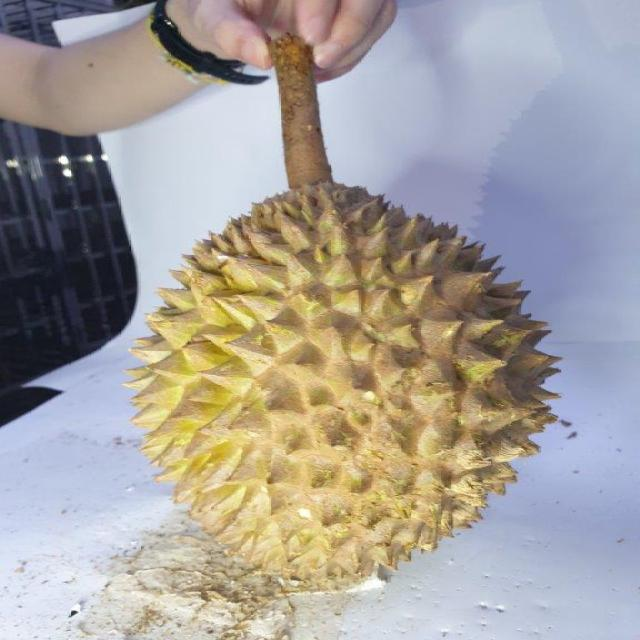mature: (135, 181, 564, 596)
